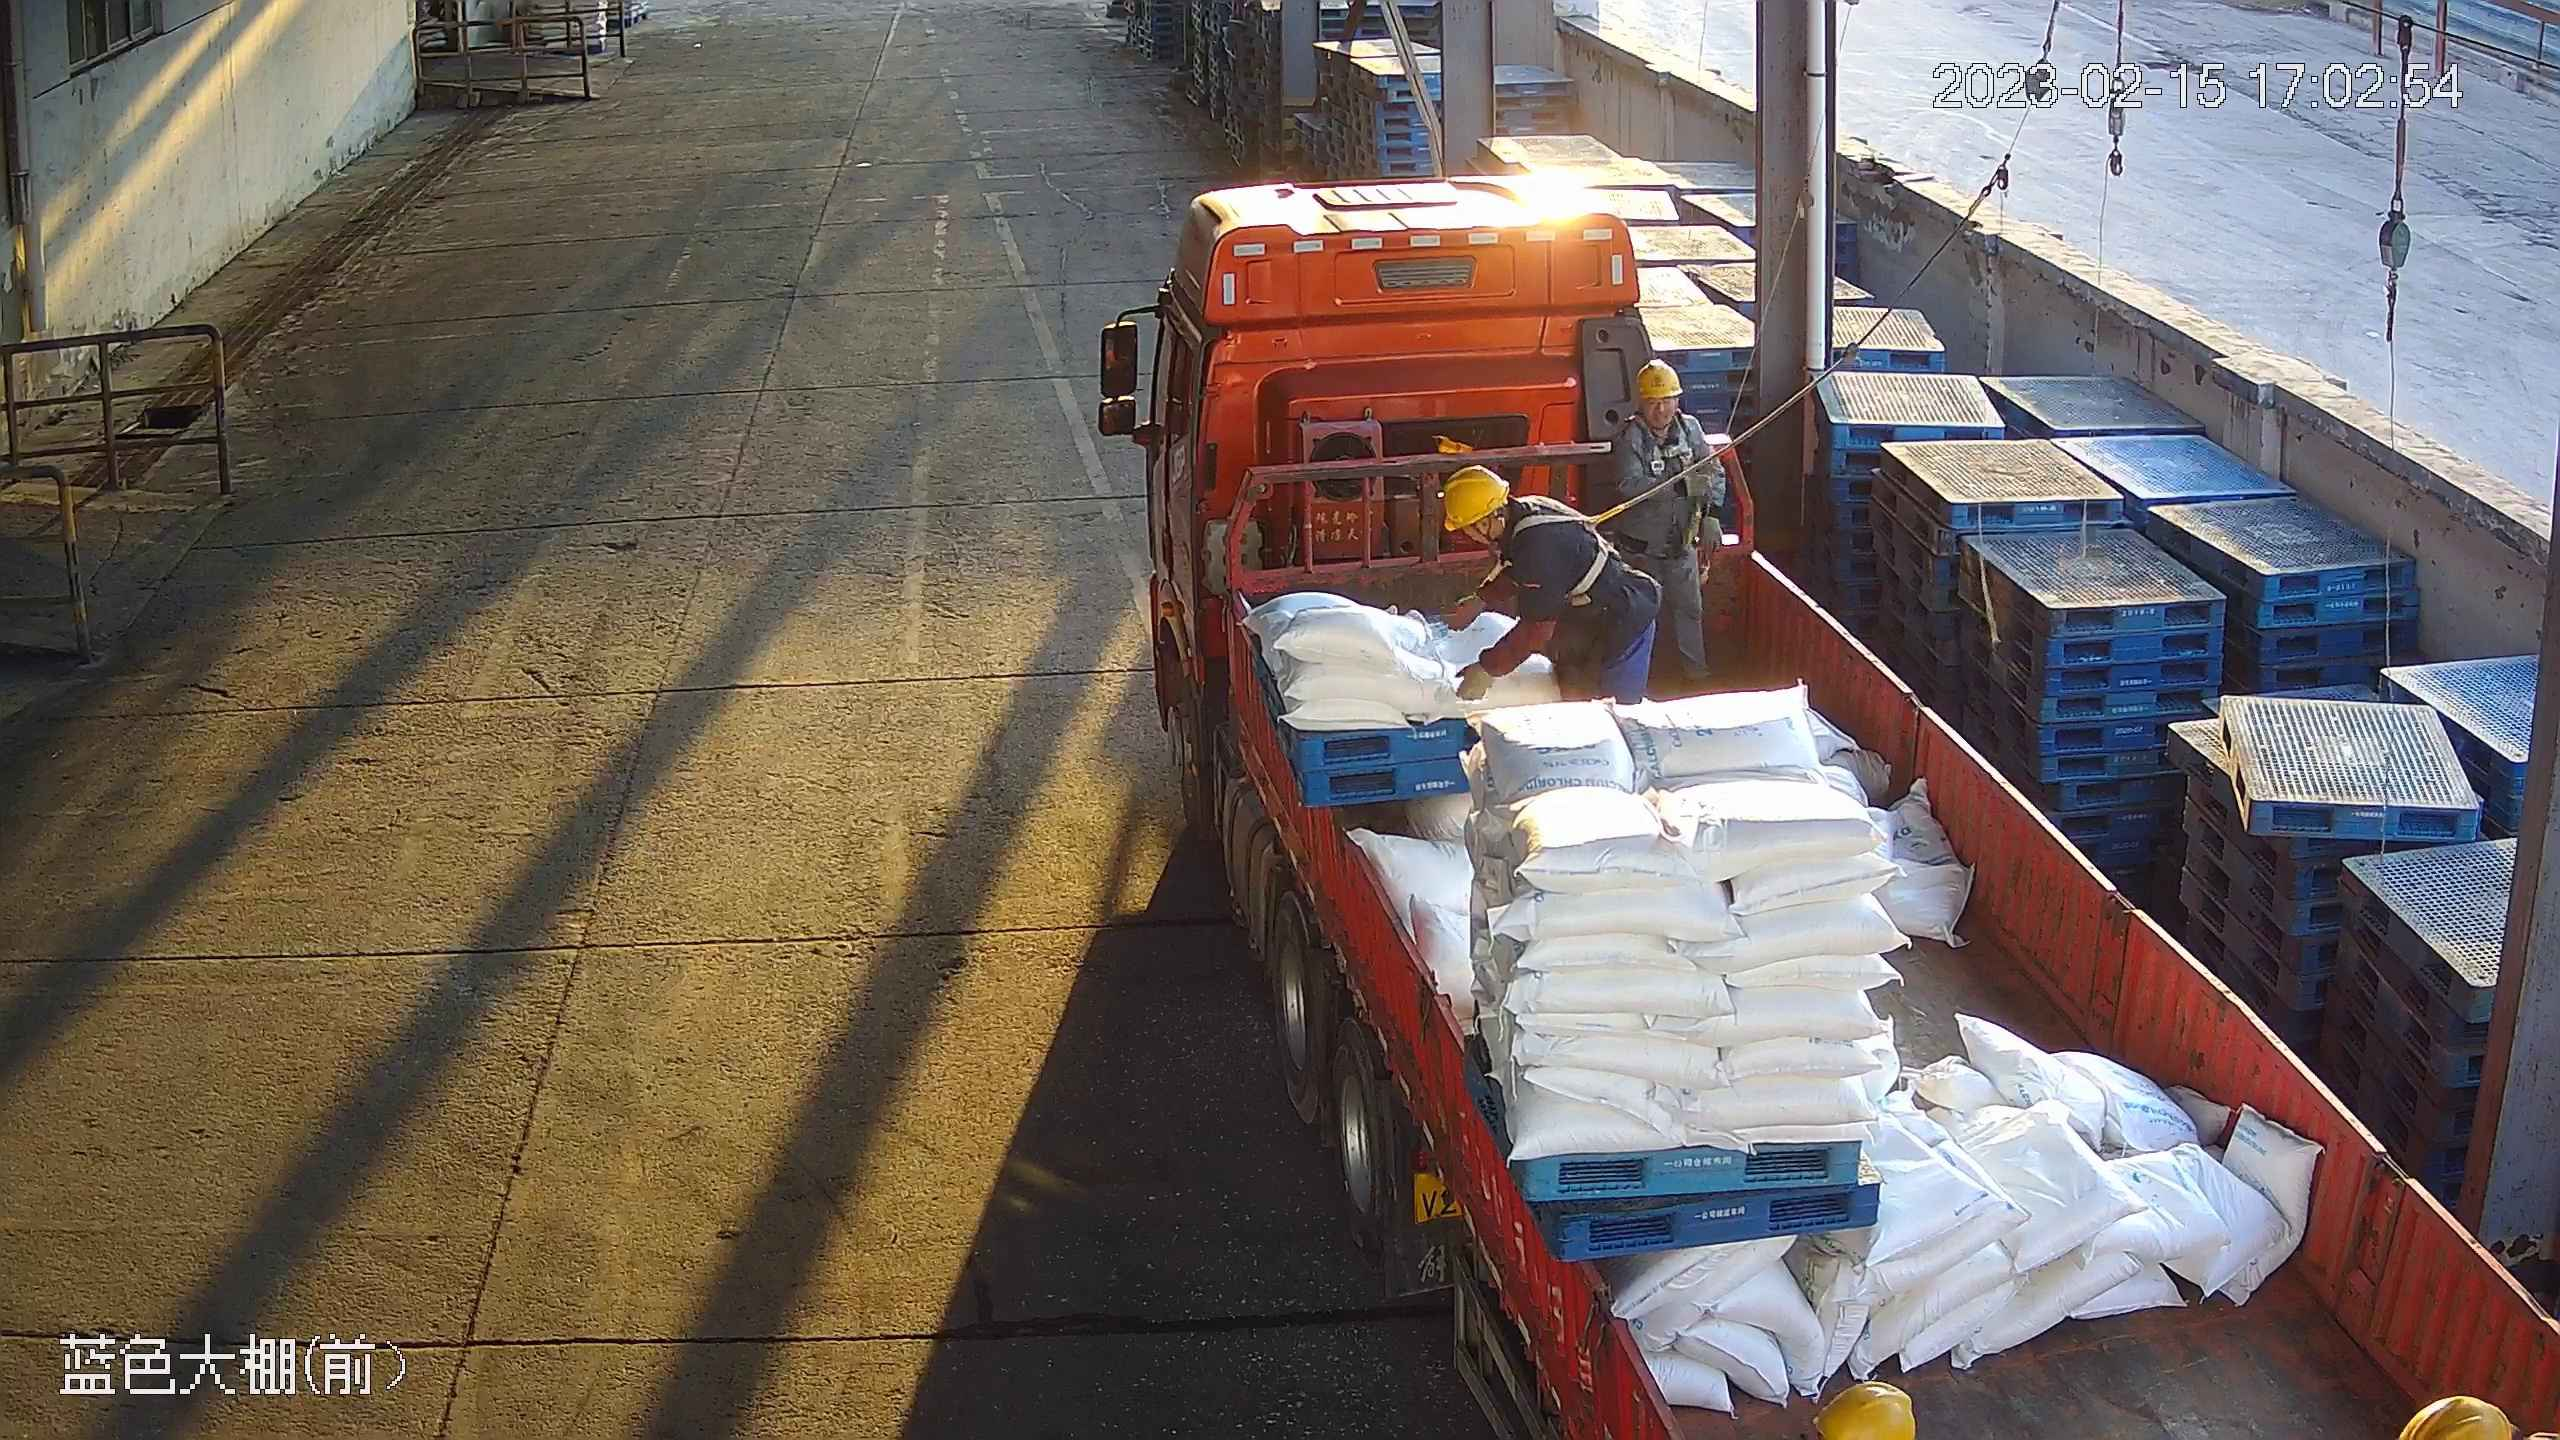belt: (1516, 503, 1627, 612), (1638, 425, 1696, 480)
head: (1603, 358, 1733, 466), (1444, 456, 1569, 560)
helmet: (1811, 1367, 1933, 1440), (1431, 460, 1511, 536), (1635, 358, 1692, 410)
people: (1429, 456, 1662, 723), (1603, 349, 1736, 712)
truck: (1105, 167, 2560, 1440)
